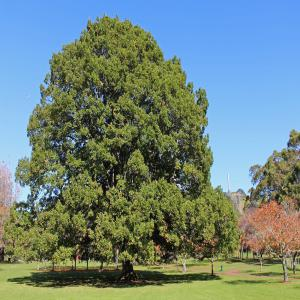Tree: (10, 13, 239, 281)
